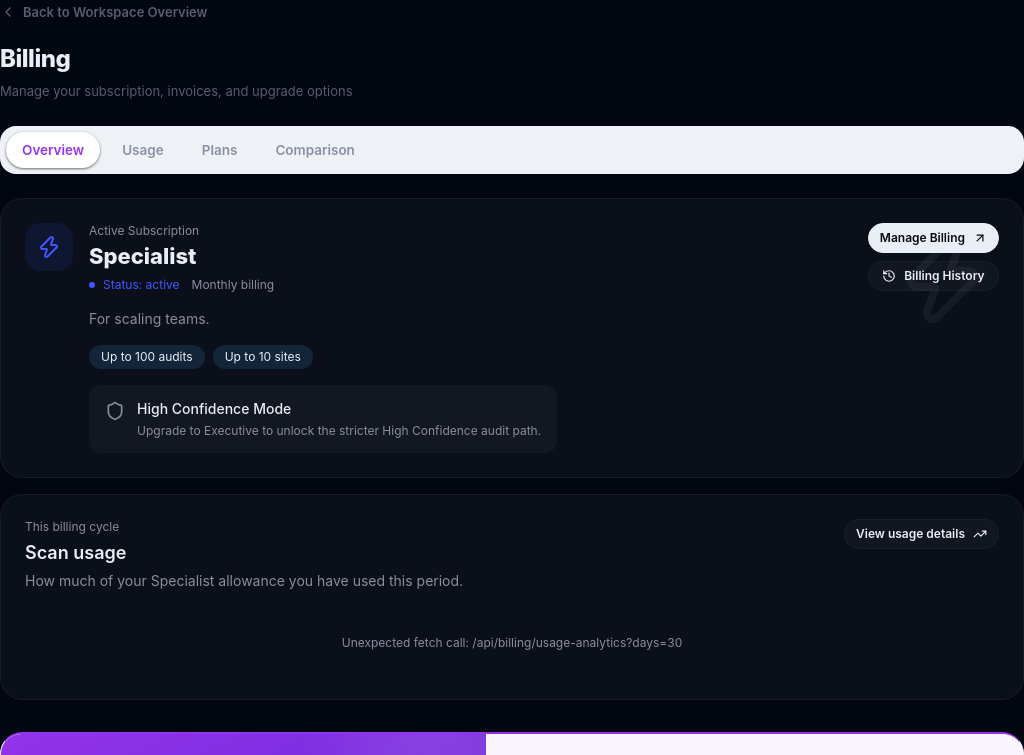
Test: BillingPage › reflects mode-specific interval availability for runtime test with an active live subscription
This screenshot has width=1024, height=755.
Check: the text "Active Subscription" is shown, box [89, 222, 199, 238]
Click the tab "Plans". click: (220, 150)
box: [186, 132, 253, 168]
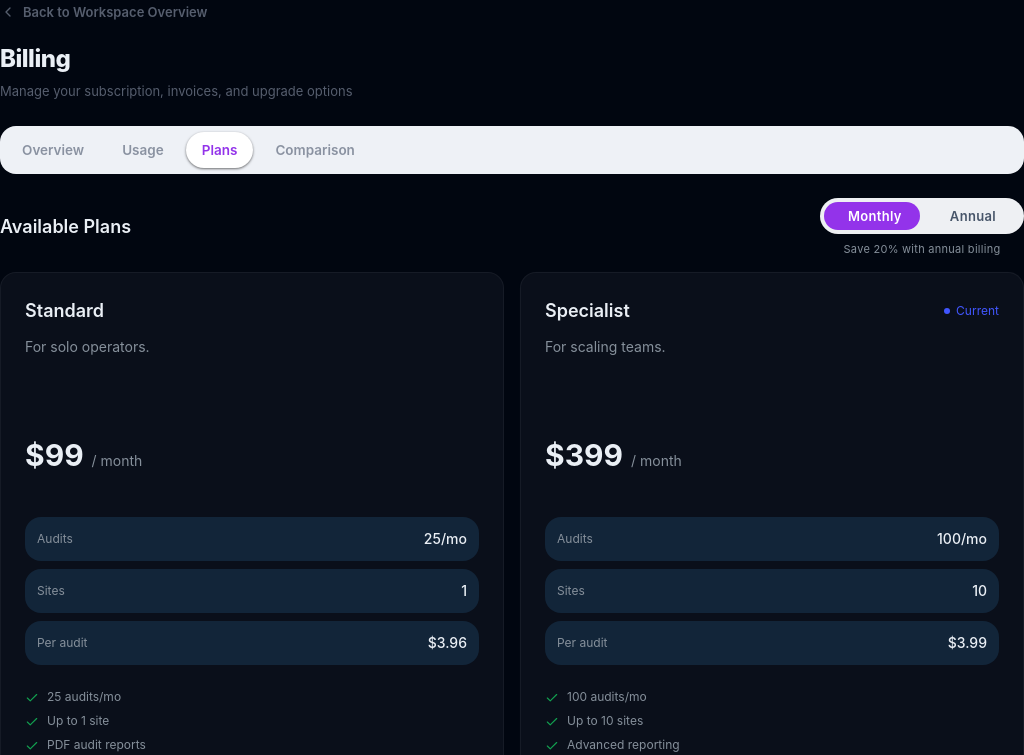
Click the button "Annual". click: (973, 216)
box: [926, 202, 1020, 230]
(page scrolled)
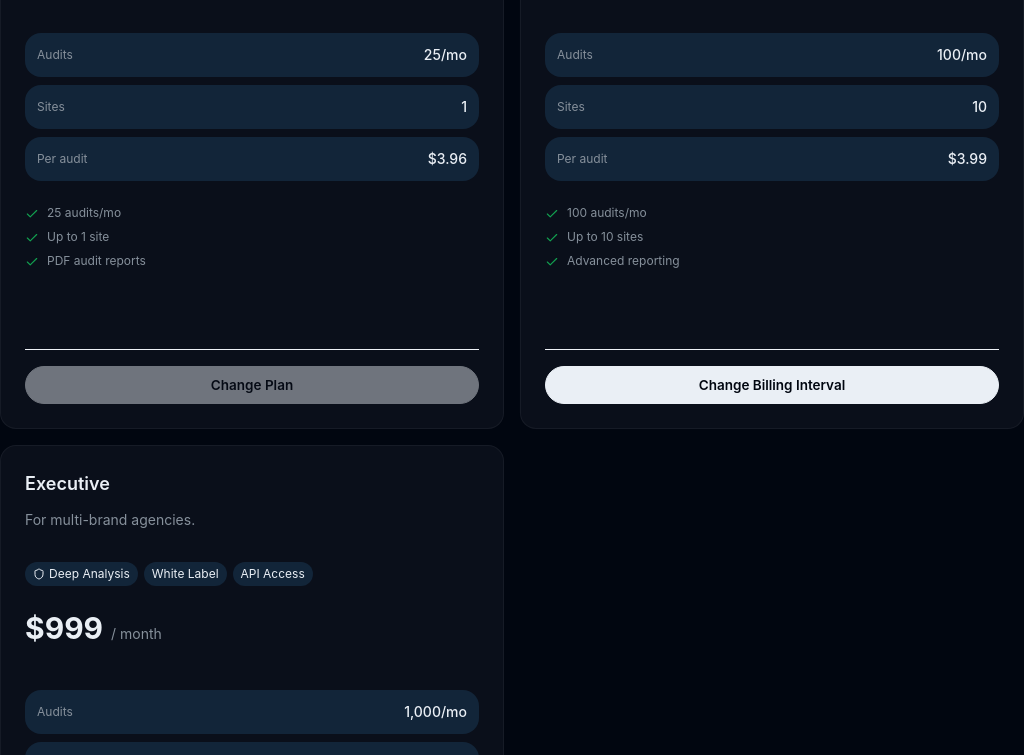
Check: the button "Change Plan" is disabled, box [25, 366, 479, 404]
